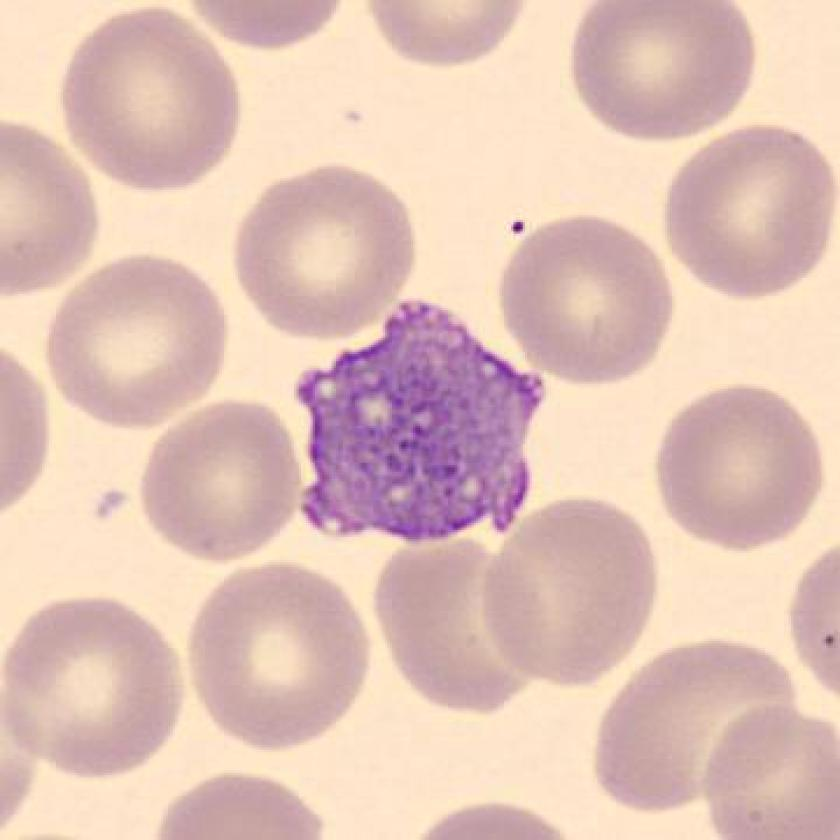platelets: (290, 297, 547, 559)
